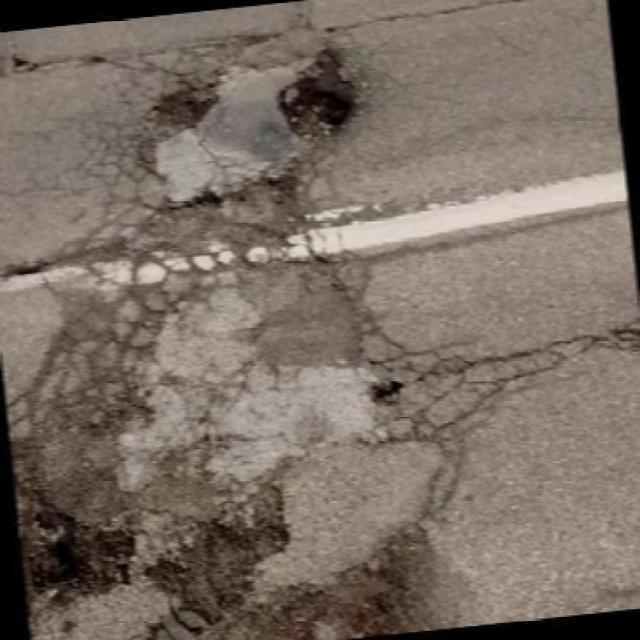Pothole: (150, 494, 294, 624), (133, 71, 251, 219), (7, 492, 148, 614), (322, 524, 430, 640), (275, 40, 359, 152), (361, 381, 418, 413)
